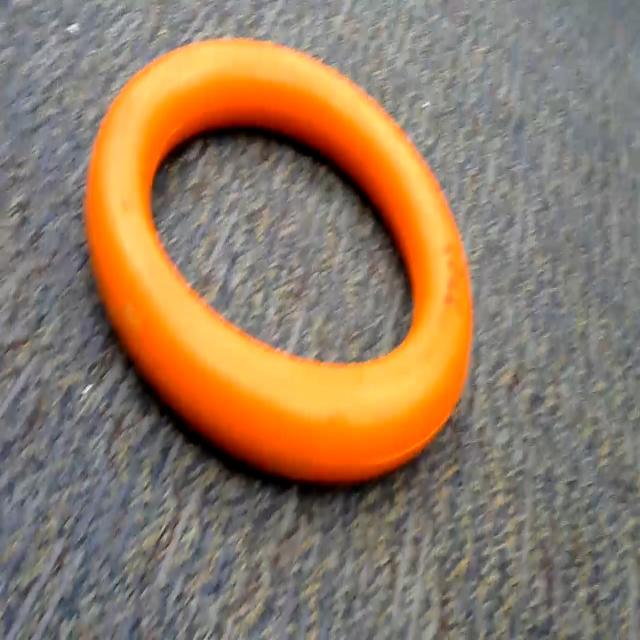note: (59, 28, 503, 504)
